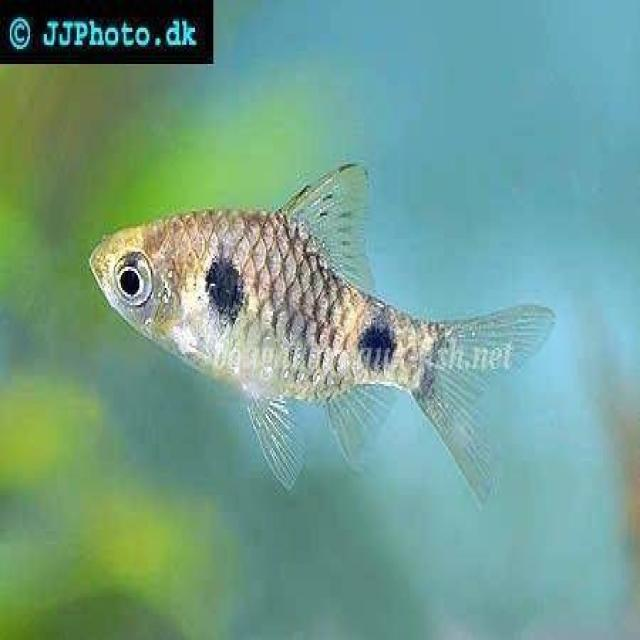Black-Spotted-Barb: (69, 140, 595, 506)
